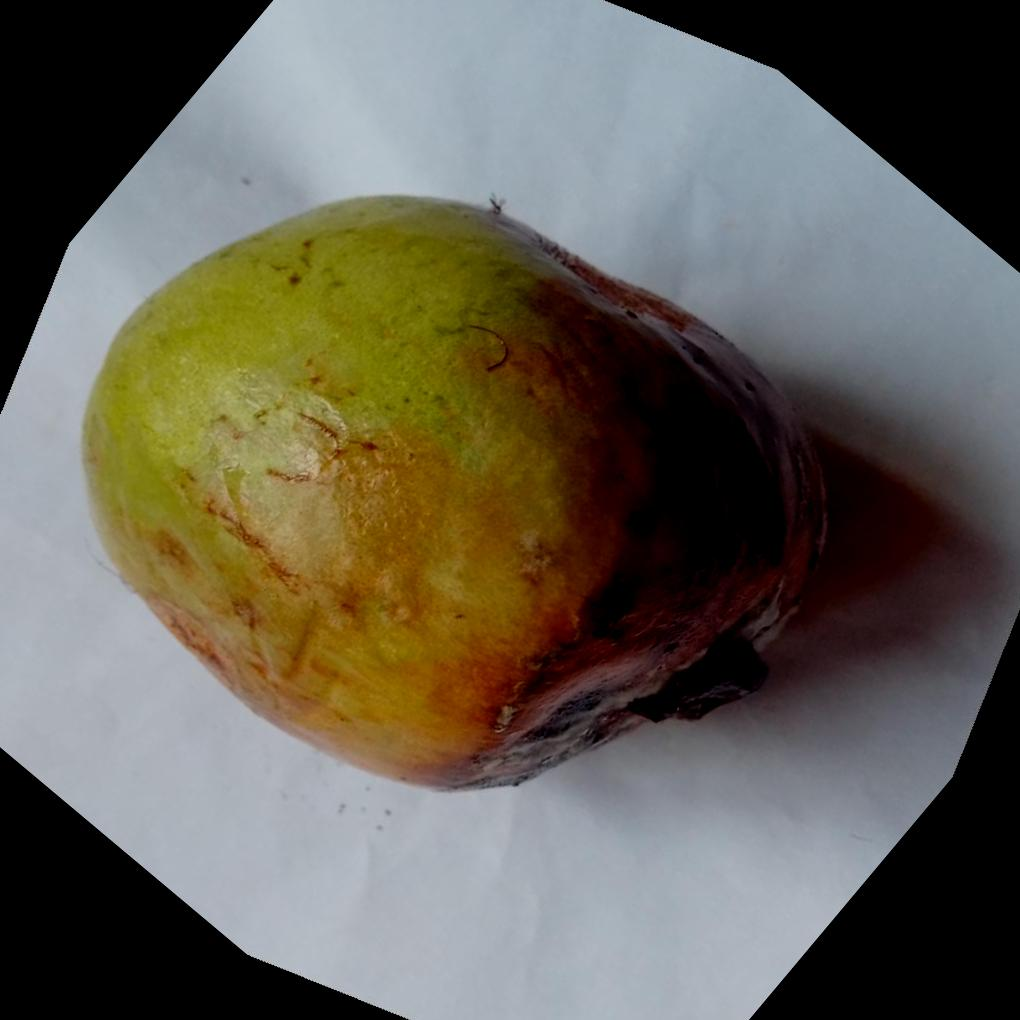FreshOrange: (79, 193, 834, 794)
